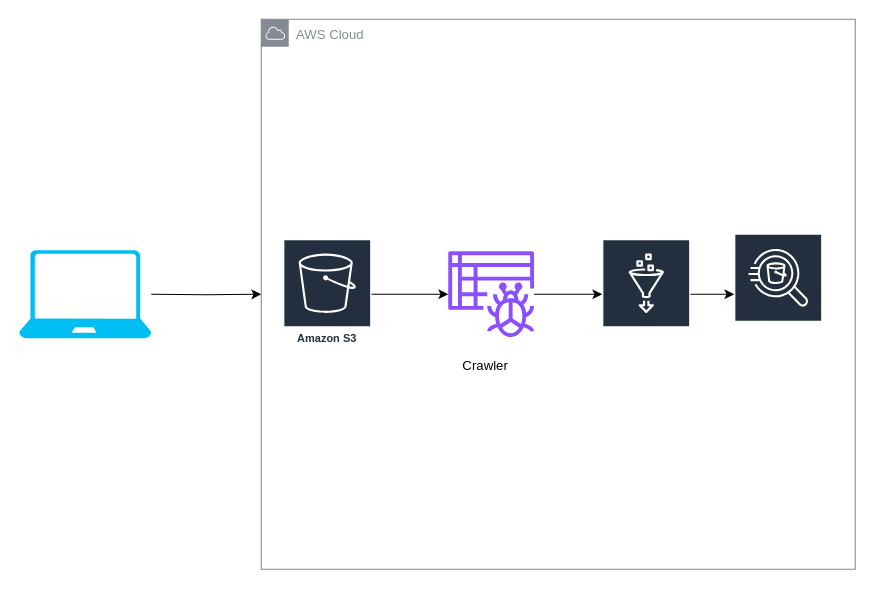
Image size: 875x589. Some labels were removed from this diagram. Each missing label, with the centre of its shape:
"Amazon Athena" goes at [777,294].
"AWS Glue" goes at [645,293].
